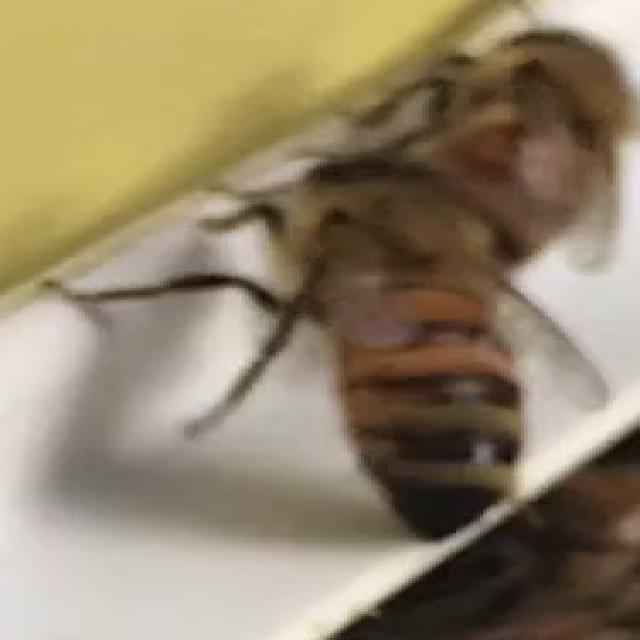honeybee: (234, 161, 548, 530), (402, 0, 639, 256)
